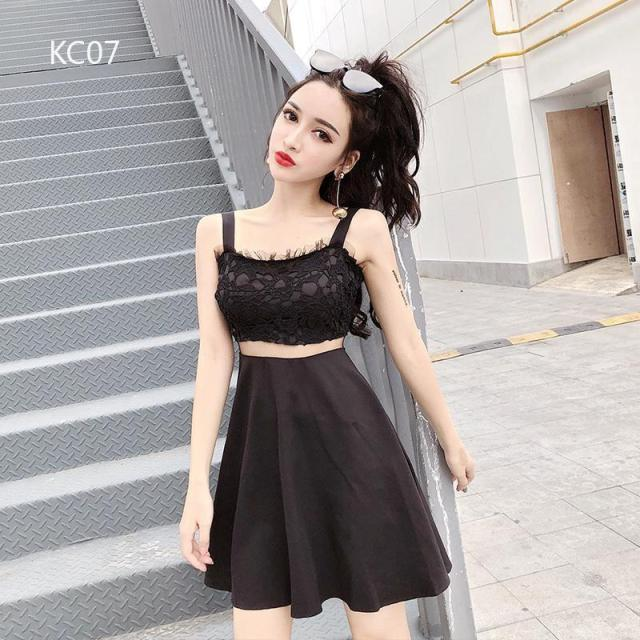skirt: (192, 348, 455, 618)
